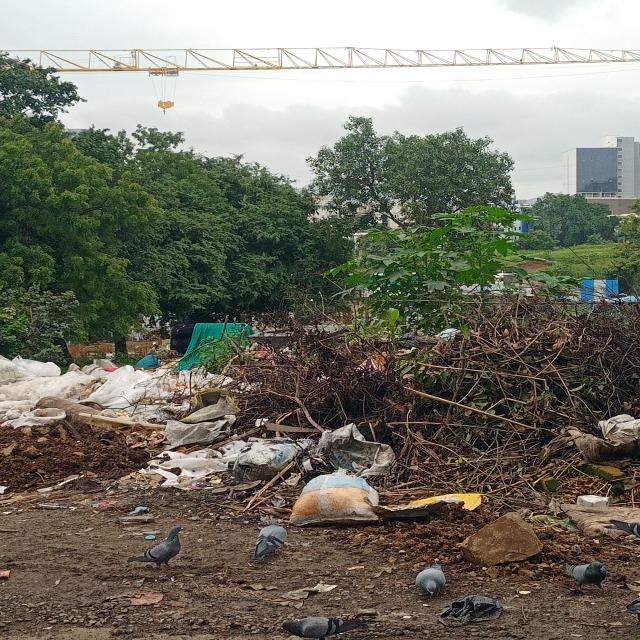garbage: (3, 336, 640, 524)
